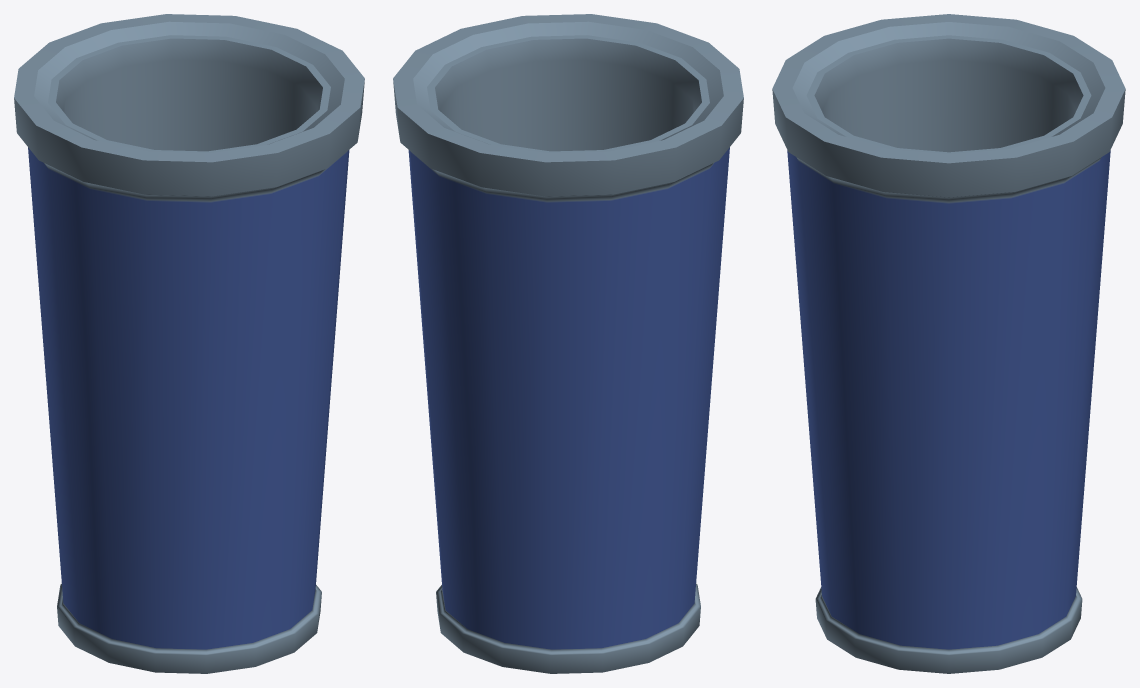
Rendered from Tumbler_Crack_low (1).fbx.
The picture shows the model from 3 angles, left to right: view 1: azimuth 30°, elevation 25°; view 2: azimuth 150°, elevation 25°; view 3: azimuth 270°, elevation 25°; orthographic projection.
Parts seen in each view (by area): view 1: Tumbler_crack_low; view 2: Tumbler_crack_low; view 3: Tumbler_crack_low.
Boxes of the visible parts, <box> form: Tumbler_crack_low: <box>14,14,364,673</box>; Tumbler_crack_low: <box>393,14,743,673</box>; Tumbler_crack_low: <box>772,14,1125,673</box>.
Bounding box in the file's own units: 181 × 300 × 181.
1 material, 1 textured.
